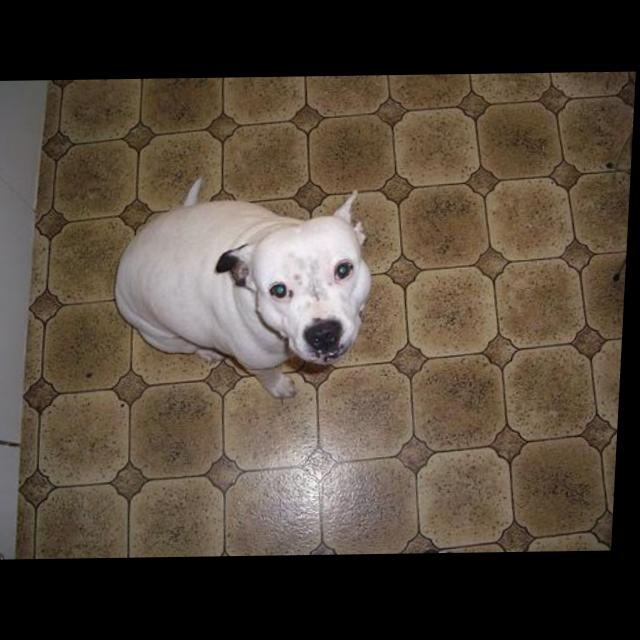staffford: (112, 175, 379, 402)
